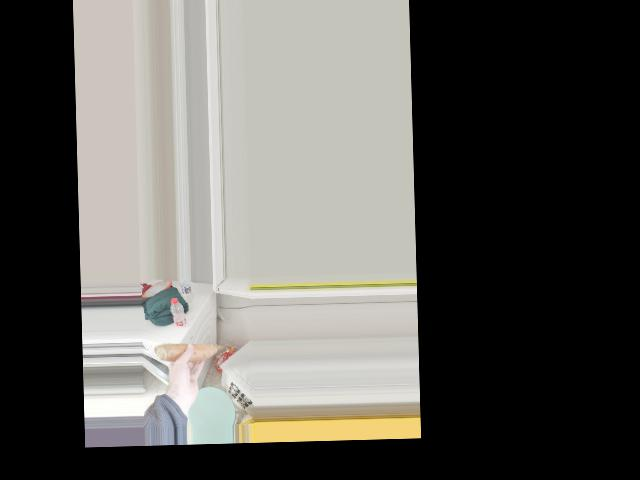sweet_potato: (160, 342, 220, 362)
